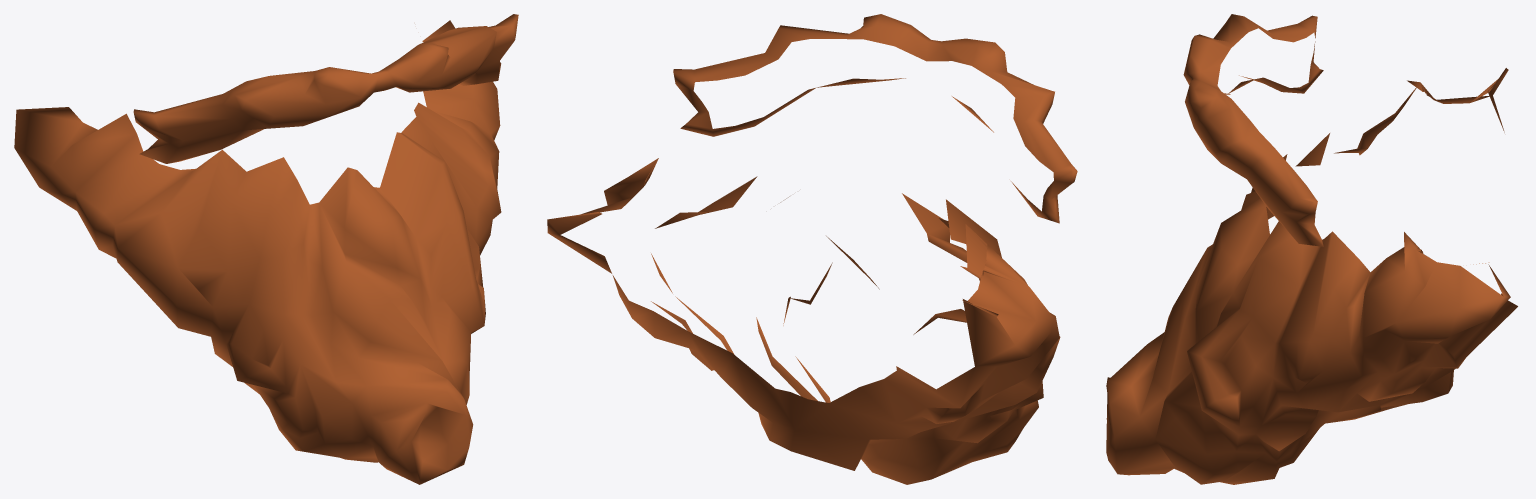
3 renders of one model, left to right at view 1: azimuth 30°, elevation 25°; view 2: azimuth 150°, elevation 25°; view 3: azimuth 270°, elevation 25°, orthographic. The views are drawn at different scales.
Visible parts, largest first — view 1: Wolf3D_Beard.005; view 2: Wolf3D_Beard.005; view 3: Wolf3D_Beard.005.
Part boxes in pixels (x1=…): Wolf3D_Beard.005: x1=14, y1=14, x2=518, y2=484; Wolf3D_Beard.005: x1=547, y1=14, x2=1077, y2=484; Wolf3D_Beard.005: x1=1106, y1=14, x2=1517, y2=484.
Size of the model in its own units: 0.1248 by 0.1083 by 0.0993.
Materials: 1 (1 with a texture image).
